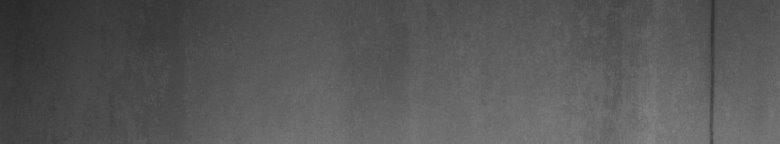hd: (705, 4, 720, 136)
